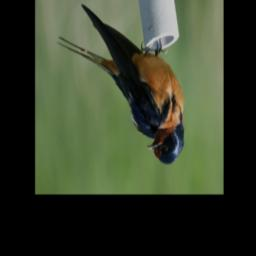Swallow: (57, 6, 186, 168)
